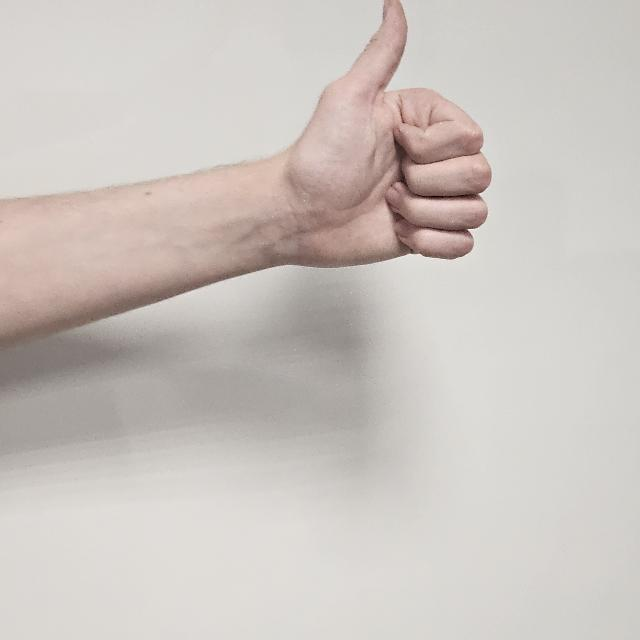Start: (292, 1, 494, 318)
